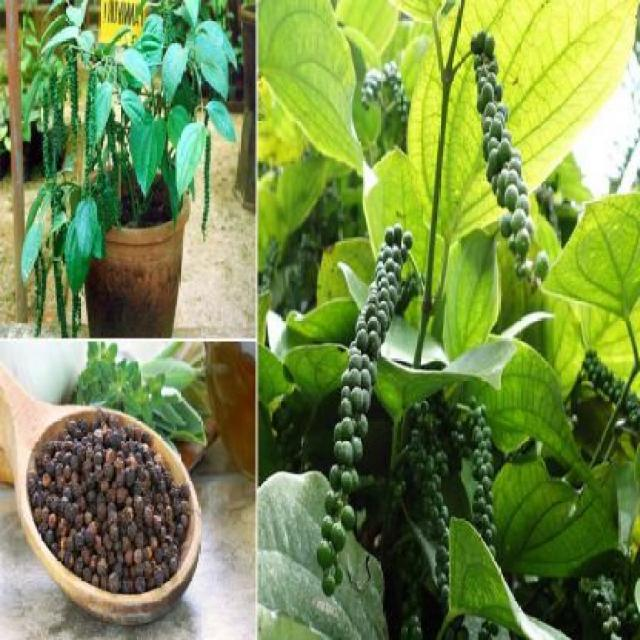UNRIPE: (300, 225, 409, 616), (472, 27, 534, 273), (463, 370, 497, 627), (415, 387, 446, 588)
